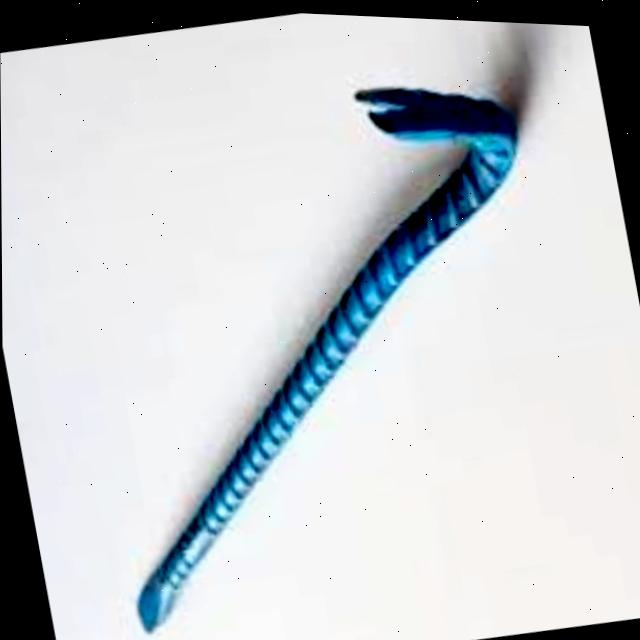crow bar: (37, 33, 618, 640)
